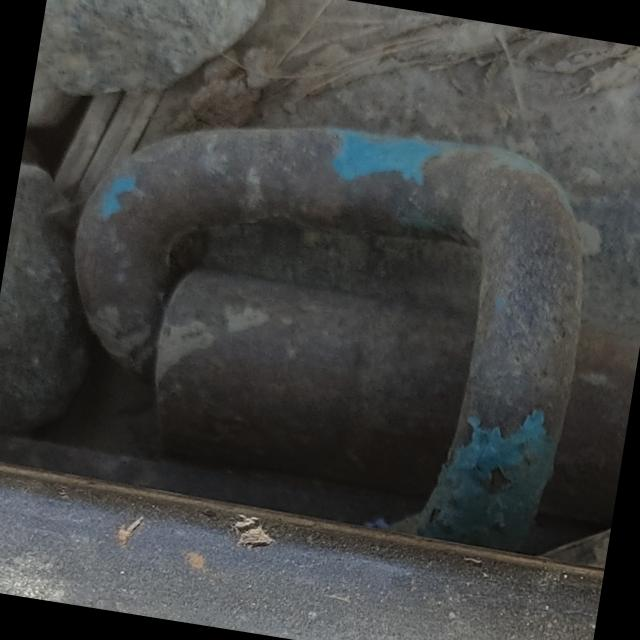track_bolt: (31, 77, 614, 557)
